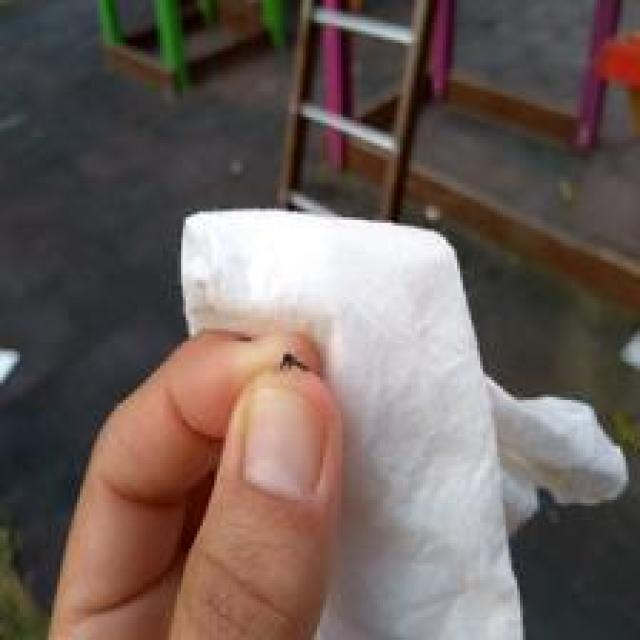Aedes albopictus: (175, 205, 630, 640)
